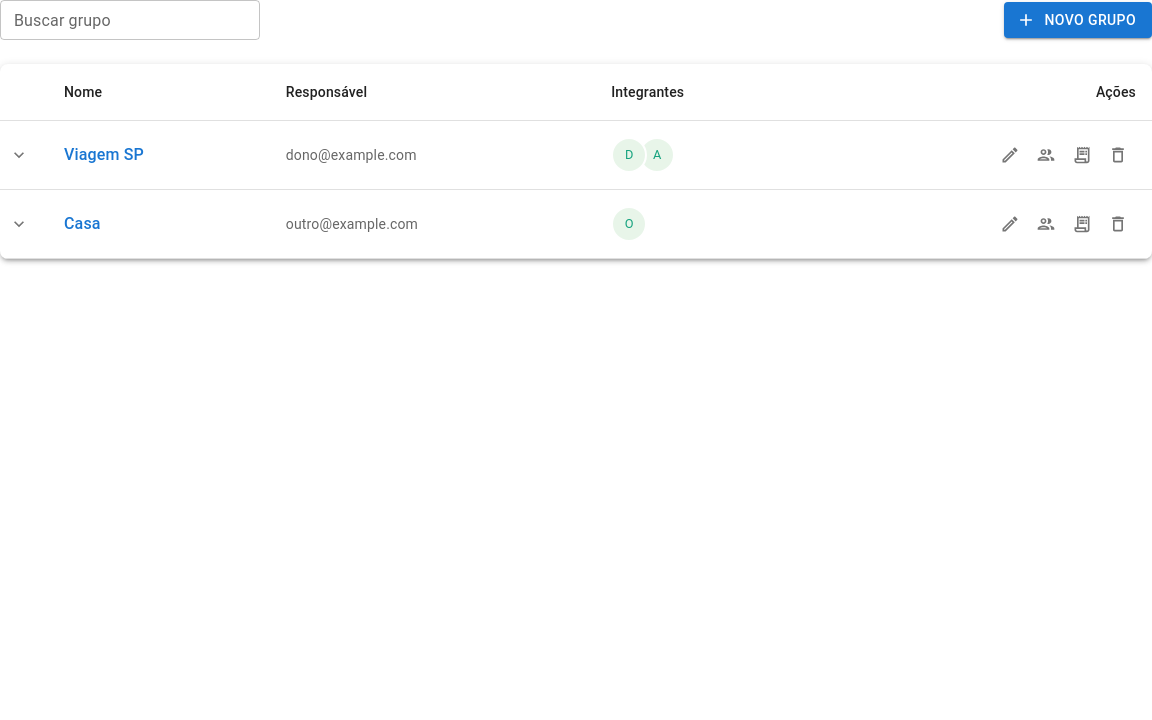
it: Dashboard › warns about irreversible physical deletion when the group has no closed cycle
Expected: the link "Viagem SP" is shown, [64, 145, 144, 164]
Click the button named "Excluir grupo" in the row of "Viagem SP" at [1118, 155], box [1100, 137, 1136, 173]
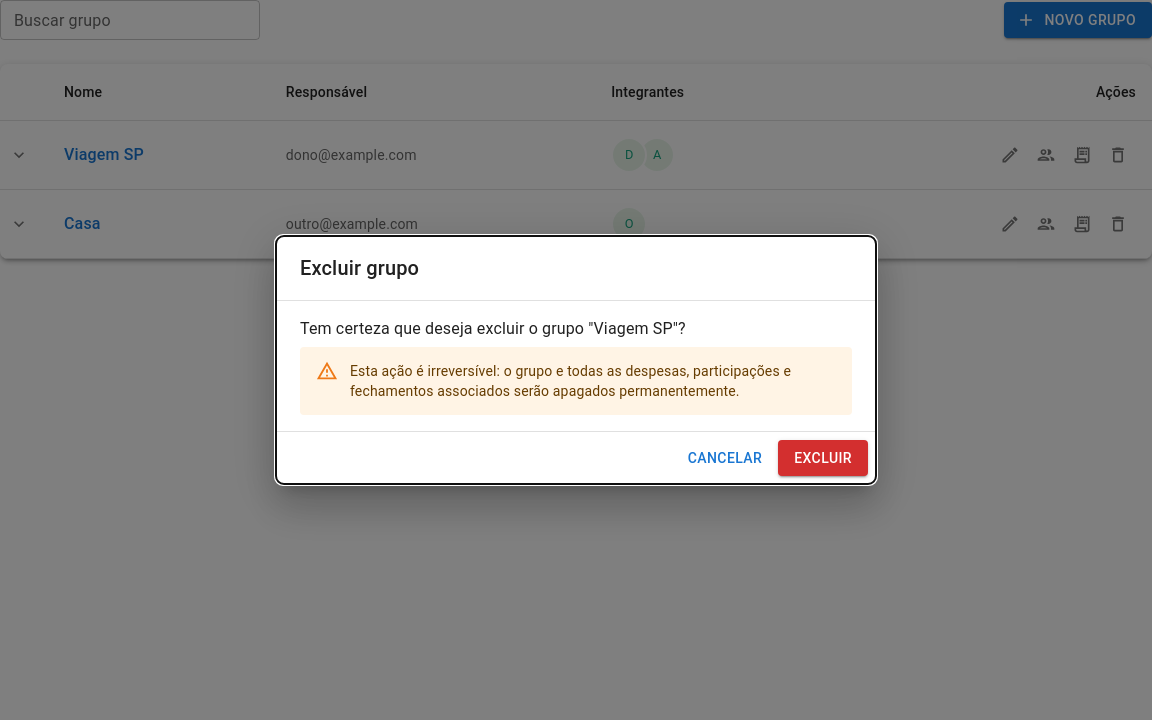
Expected: the text "Esta ação é irreversível: o grupo e todas as despesas, participações e fechamentos associados serão apagados permanentem" is shown, [350, 362, 791, 398]
